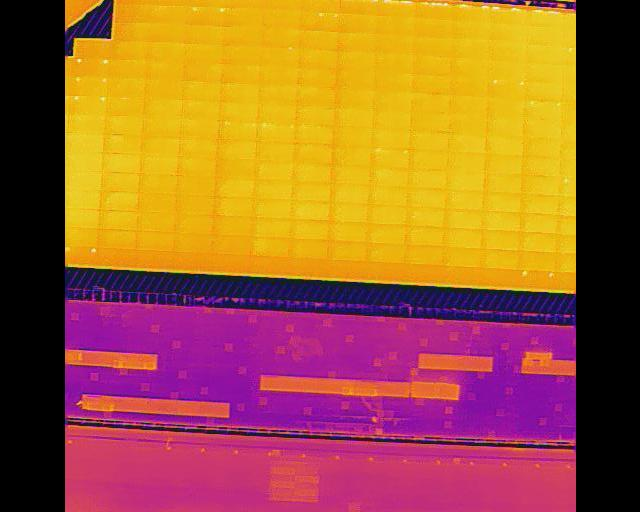Cell: (65, 248, 96, 266)
Cell-Multi: (183, 7, 224, 26), (488, 78, 523, 100), (72, 75, 108, 96), (514, 269, 553, 288), (300, 12, 338, 31), (523, 101, 561, 120), (413, 2, 451, 20), (74, 58, 109, 77), (72, 97, 106, 115), (338, 0, 375, 15), (300, 0, 338, 13)
No-Anomaly: (142, 117, 180, 140), (327, 241, 367, 262), (291, 181, 331, 202), (288, 219, 328, 240), (184, 24, 224, 45), (180, 118, 218, 140), (177, 155, 215, 177), (100, 190, 138, 212), (97, 228, 135, 250), (369, 148, 408, 169), (333, 106, 372, 127), (255, 121, 294, 142), (253, 159, 292, 180), (522, 137, 561, 158), (101, 171, 138, 193), (296, 68, 336, 88), (293, 125, 333, 145), (290, 200, 330, 220), (287, 239, 327, 259), (406, 169, 446, 189), (213, 197, 253, 217), (214, 178, 254, 198), (520, 175, 560, 195), (298, 48, 336, 69), (450, 57, 488, 78), (443, 228, 481, 249), (518, 232, 556, 253), (141, 135, 179, 156), (136, 212, 174, 233), (98, 210, 136, 231), (96, 247, 134, 268), (144, 79, 182, 100), (375, 16, 414, 36), (328, 222, 367, 242), (327, 259, 366, 279), (298, 30, 337, 50), (295, 105, 334, 125), (293, 143, 332, 163), (259, 65, 298, 85), (256, 102, 295, 122), (249, 255, 288, 275), (450, 76, 489, 96), (406, 189, 445, 209), (404, 245, 443, 265), (222, 46, 261, 66), (215, 159, 254, 179), (180, 100, 219, 120), (173, 233, 212, 253), (254, 178, 291, 199), (253, 198, 290, 219), (252, 218, 289, 239), (251, 236, 288, 257), (176, 213, 213, 234), (102, 152, 139, 173), (485, 134, 522, 155), (483, 172, 520, 193), (404, 264, 442, 284), (372, 109, 410, 129), (338, 14, 376, 34), (336, 70, 374, 90), (330, 184, 368, 204), (255, 141, 293, 161), (450, 39, 490, 58), (447, 133, 485, 153), (447, 153, 485, 173), (410, 113, 448, 133), (224, 26, 262, 46), (218, 101, 256, 121), (217, 139, 255, 159), (212, 235, 250, 255), (183, 62, 221, 82), (182, 81, 220, 101), (178, 137, 216, 157), (176, 175, 214, 195), (145, 61, 183, 81), (138, 174, 176, 194), (138, 193, 176, 213), (103, 134, 141, 154), (483, 192, 521, 212), (482, 211, 520, 231), (136, 230, 172, 251), (481, 229, 517, 250), (375, 36, 414, 55), (367, 186, 406, 205), (367, 205, 406, 224), (330, 166, 369, 185), (261, 10, 300, 29), (412, 57, 451, 76), (411, 94, 450, 113), (408, 151, 447, 170), (219, 83, 258, 102), (212, 216, 251, 235), (374, 71, 411, 91), (372, 128, 409, 148), (368, 224, 405, 244), (332, 146, 369, 166), (449, 114, 486, 134), (445, 191, 482, 211), (442, 247, 479, 267), (520, 194, 557, 214), (176, 195, 213, 215), (517, 251, 554, 271), (146, 42, 183, 62), (488, 23, 525, 43), (486, 115, 523, 135), (141, 154, 176, 175), (374, 53, 412, 72), (373, 91, 411, 110), (367, 243, 405, 262), (336, 33, 374, 52), (336, 52, 374, 71), (333, 127, 371, 146), (292, 163, 330, 182), (261, 47, 299, 66), (261, 28, 299, 47), (258, 85, 296, 104), (525, 45, 563, 64), (446, 172, 484, 191), (443, 210, 481, 229), (411, 76, 449, 95), (409, 132, 447, 151), (406, 208, 444, 227), (405, 226, 443, 245), (221, 64, 259, 83), (218, 121, 256, 140), (184, 44, 222, 63), (486, 98, 524, 117), (295, 87, 335, 105), (414, 19, 450, 39), (522, 157, 562, 175), (172, 253, 212, 271), (144, 99, 180, 119), (480, 249, 516, 269), (526, 64, 563, 83), (413, 38, 450, 57), (525, 82, 562, 101), (225, 8, 262, 27), (212, 254, 249, 273), (519, 214, 556, 233), (135, 249, 172, 268), (109, 60, 146, 79), (106, 97, 143, 116), (105, 116, 142, 135), (75, 40, 112, 59), (484, 155, 521, 174), (288, 258, 327, 276), (148, 23, 183, 43), (112, 40, 147, 60), (490, 60, 525, 80), (366, 263, 404, 281), (329, 205, 367, 223), (526, 27, 564, 45), (450, 21, 488, 39), (443, 266, 479, 285), (108, 78, 144, 97), (479, 267, 515, 286), (369, 168, 406, 186), (335, 90, 372, 108), (450, 97, 487, 115), (523, 120, 560, 138), (114, 22, 149, 41), (489, 42, 524, 61), (115, 5, 150, 23), (71, 115, 104, 134), (149, 5, 183, 23), (68, 209, 98, 229), (70, 172, 101, 191), (69, 191, 100, 210), (71, 153, 102, 172), (72, 134, 102, 153), (67, 228, 97, 247), (225, 0, 262, 9)
Unclassified: (488, 7, 525, 26), (450, 5, 488, 23), (525, 10, 563, 27), (376, 1, 414, 17), (261, 0, 300, 11), (183, 0, 225, 7), (151, 0, 184, 7), (114, 0, 150, 5)
